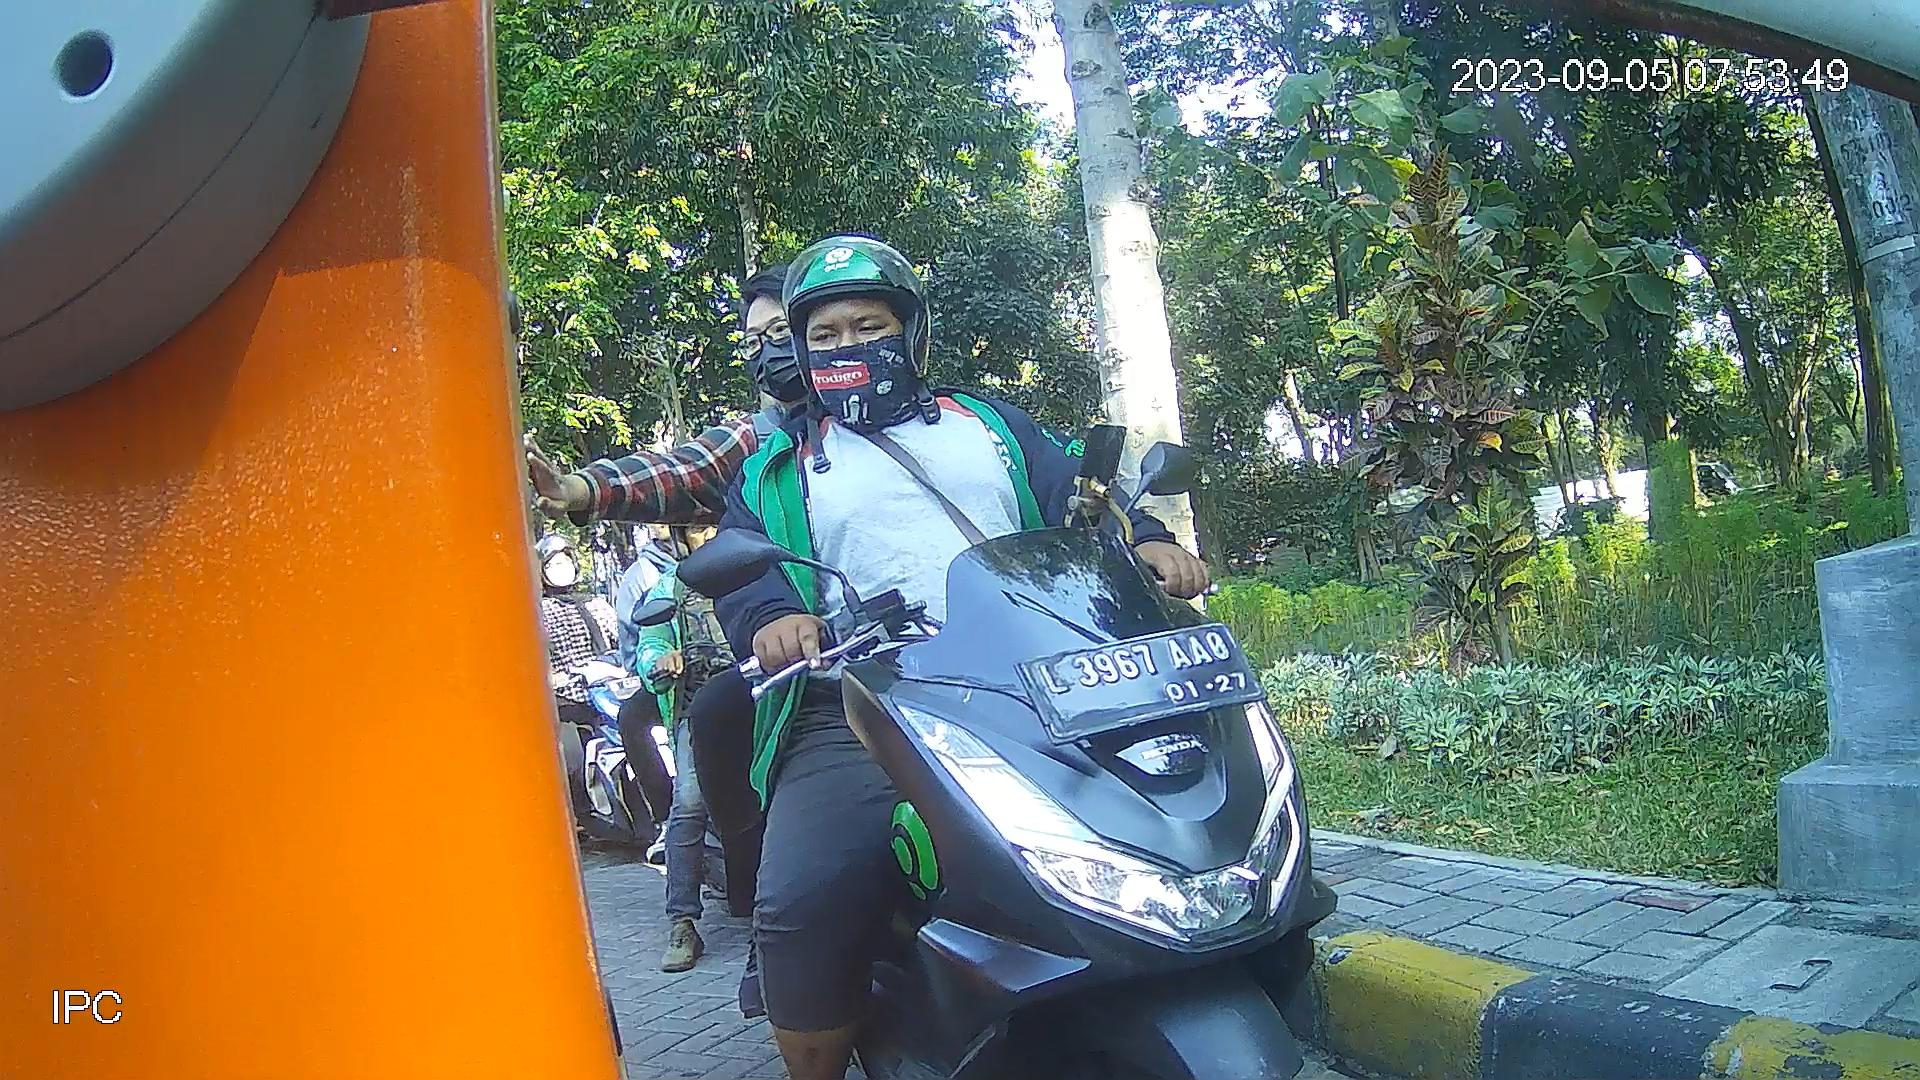plat: (1010, 620, 1271, 749)
